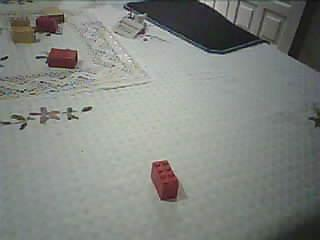lego: (150, 159, 179, 199), (47, 47, 78, 67), (10, 25, 36, 44), (39, 6, 64, 24), (35, 14, 57, 32), (8, 16, 31, 28)
